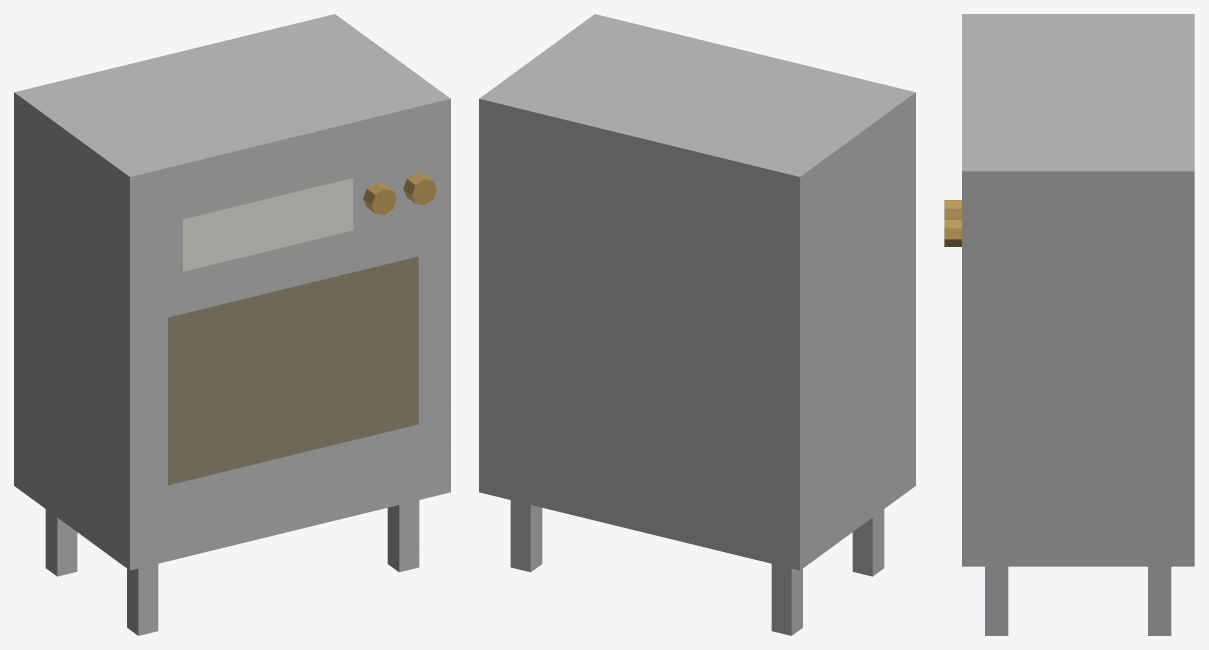
The model's file is radio.gltf.
3 views of the same model, side by side, from view 1: azimuth 30°, elevation 25°; view 2: azimuth 150°, elevation 25°; view 3: azimuth 270°, elevation 25° (orthographic).
Parts seen in each view (by area): view 1: Mesh; view 2: Mesh; view 3: Mesh.
Part boxes in pixels (bbox=[...]): Mesh: bbox=[14, 14, 450, 635]; Mesh: bbox=[479, 14, 915, 635]; Mesh: bbox=[944, 14, 1194, 635].
Size of what is drawn, in the model's own units: 0.64 by 0.9 by 0.43.
